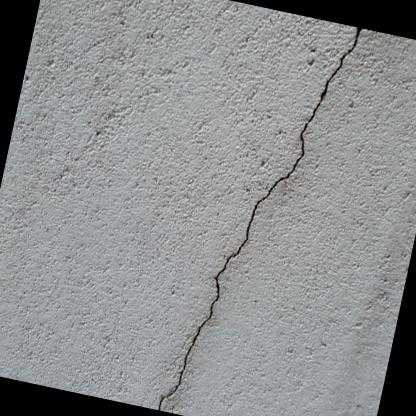crack: (155, 27, 364, 411)
